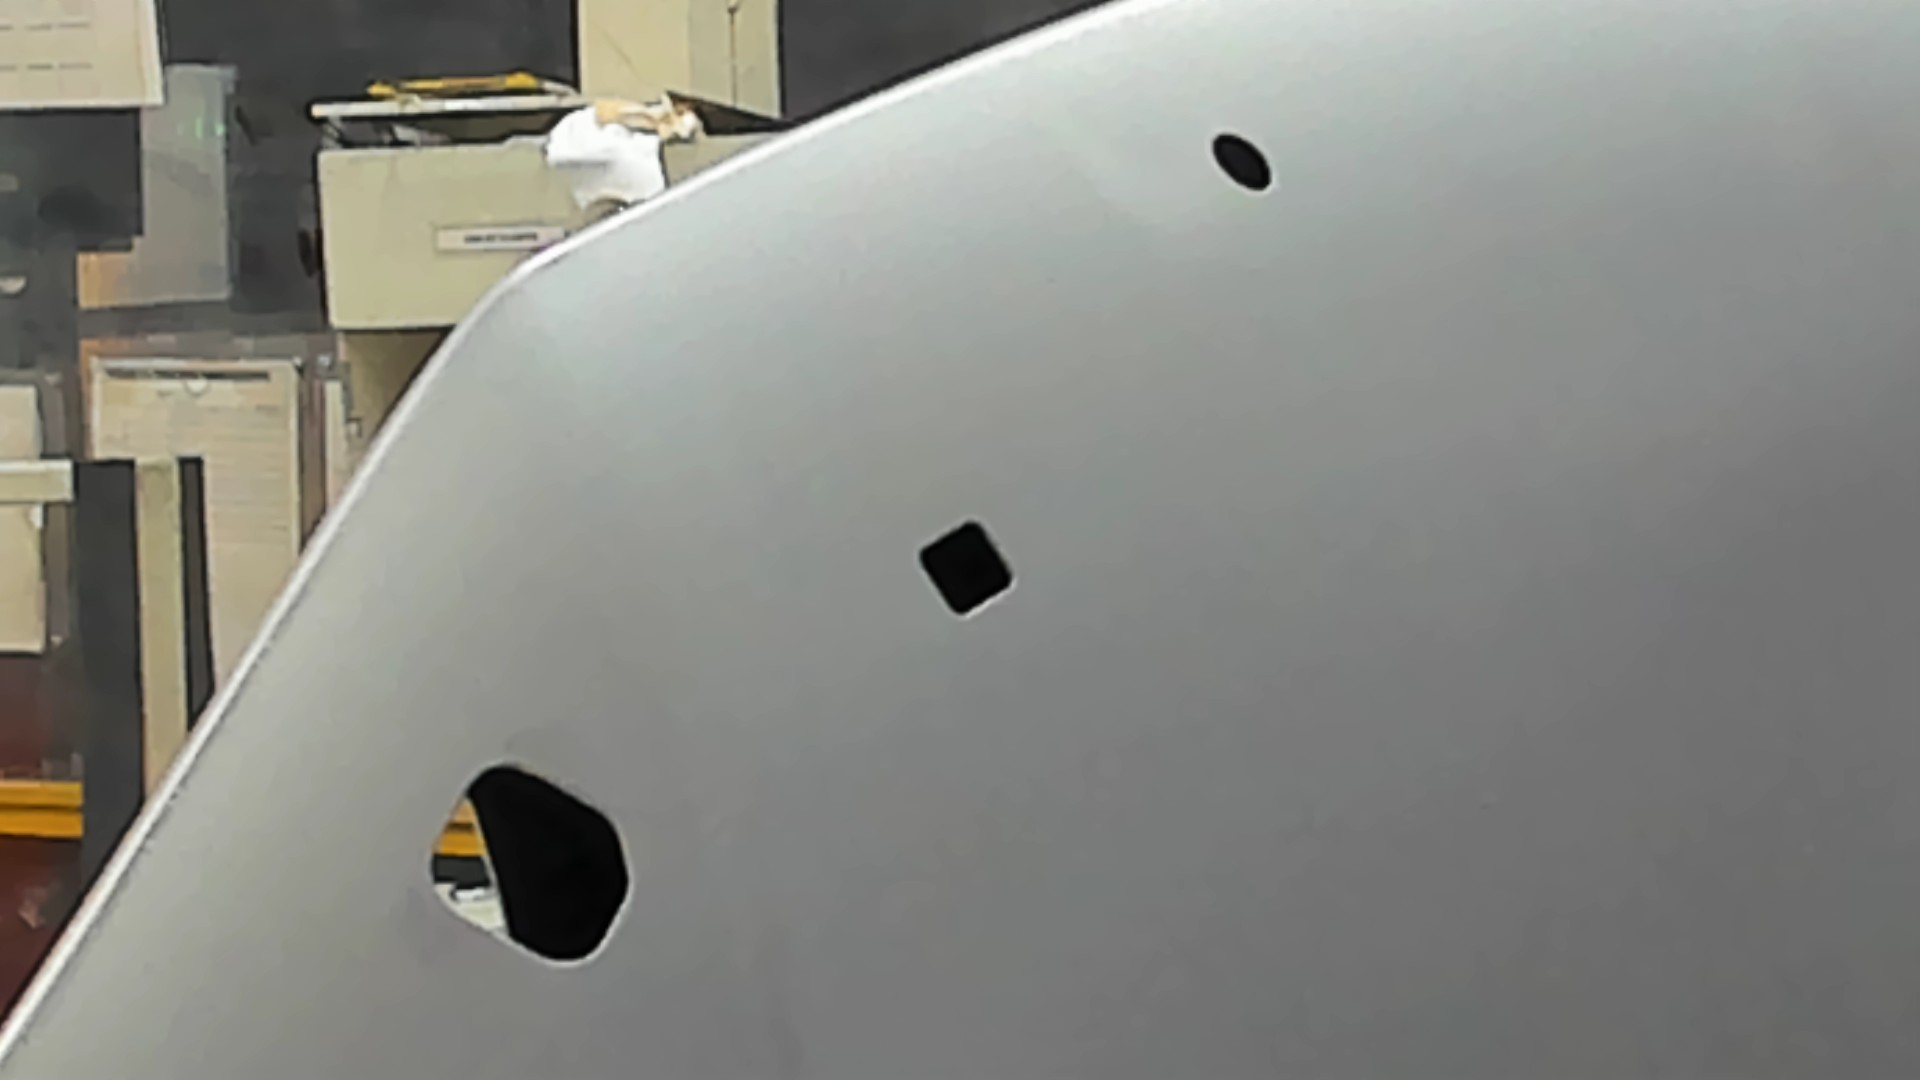Agujero: (916, 520, 1015, 618), (1211, 131, 1273, 190)
Agujerote: (426, 761, 633, 967)
